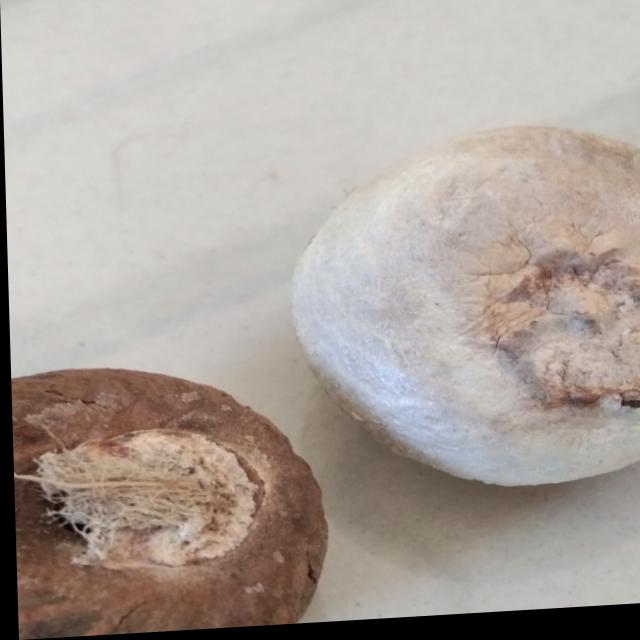good: (291, 129, 640, 490)
karigot: (9, 353, 327, 640)
